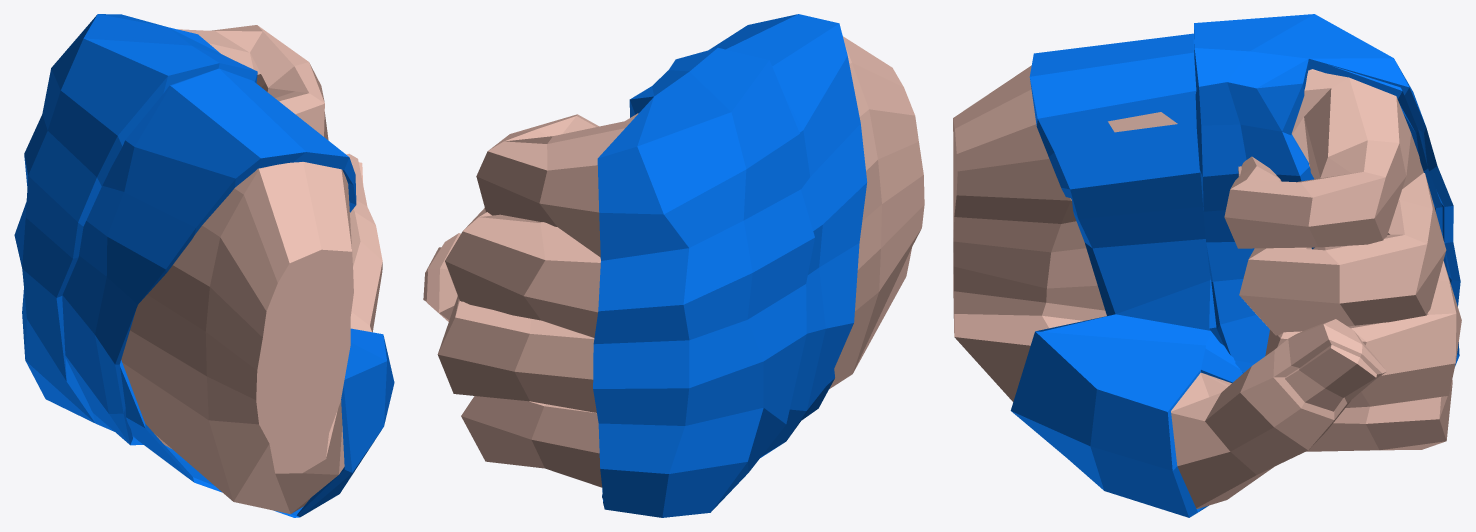
Rendered from RHand.fbx.
The picture shows the model from 3 angles, left to right: view 1: azimuth 30°, elevation 25°; view 2: azimuth 150°, elevation 25°; view 3: azimuth 270°, elevation 25°; orthographic projection.
Visible parts, largest first — view 1: Bandages3, Hand; view 2: Bandages3, Hand; view 3: Hand, Bandages3.
Part boxes in pixels (x1,y1,x2,y2): Bandages3: [14, 14, 394, 517]; Hand: [121, 25, 382, 514]; Bandages3: [593, 14, 867, 517]; Hand: [423, 36, 924, 487]; Hand: [953, 65, 1461, 508]; Bandages3: [1010, 14, 1460, 517].
Size of the model in its own units: 6.94 by 8.14 by 9.2.
